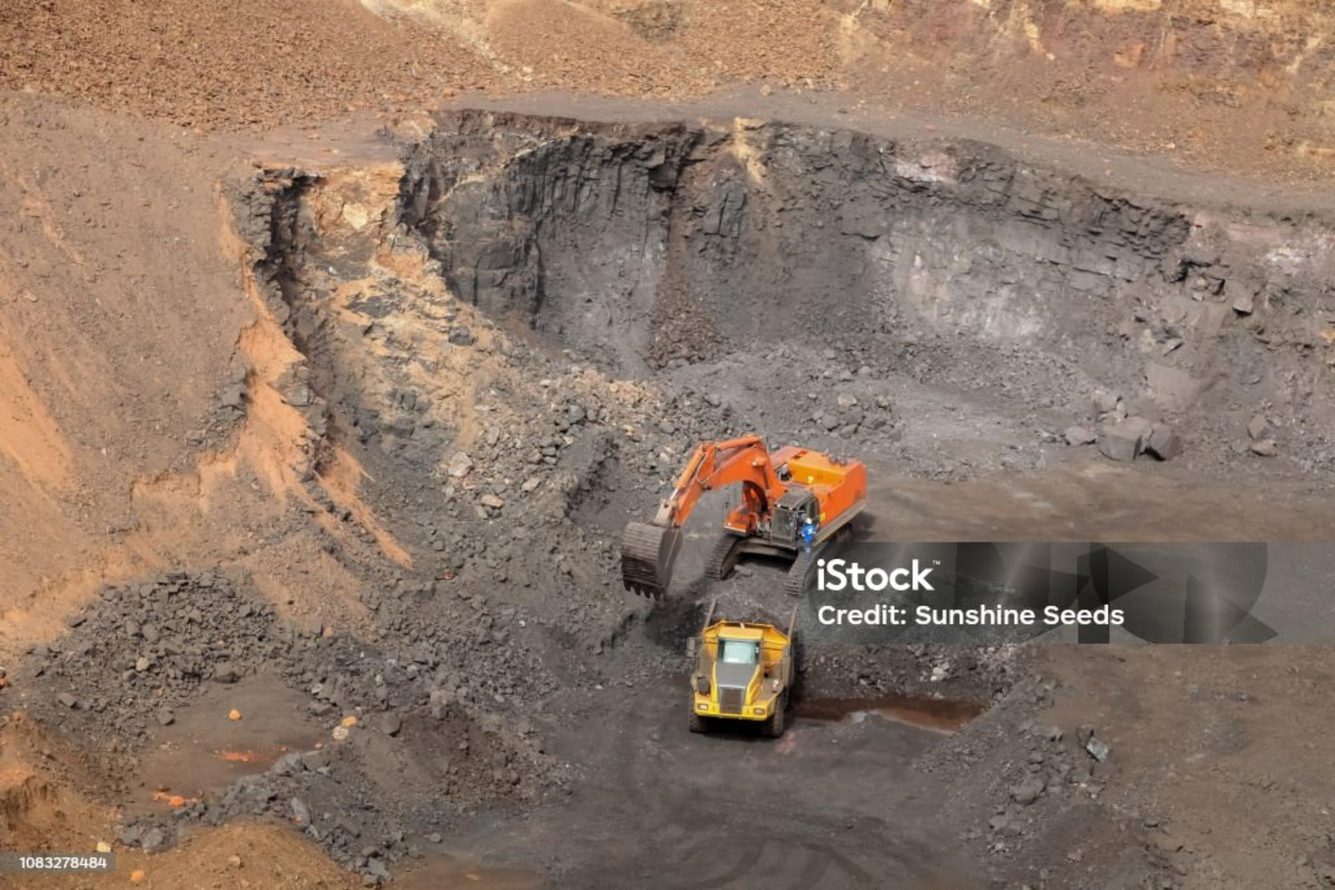excavator: (621, 434, 863, 598)
truck: (671, 608, 804, 736)
wall: (379, 108, 1334, 470)
